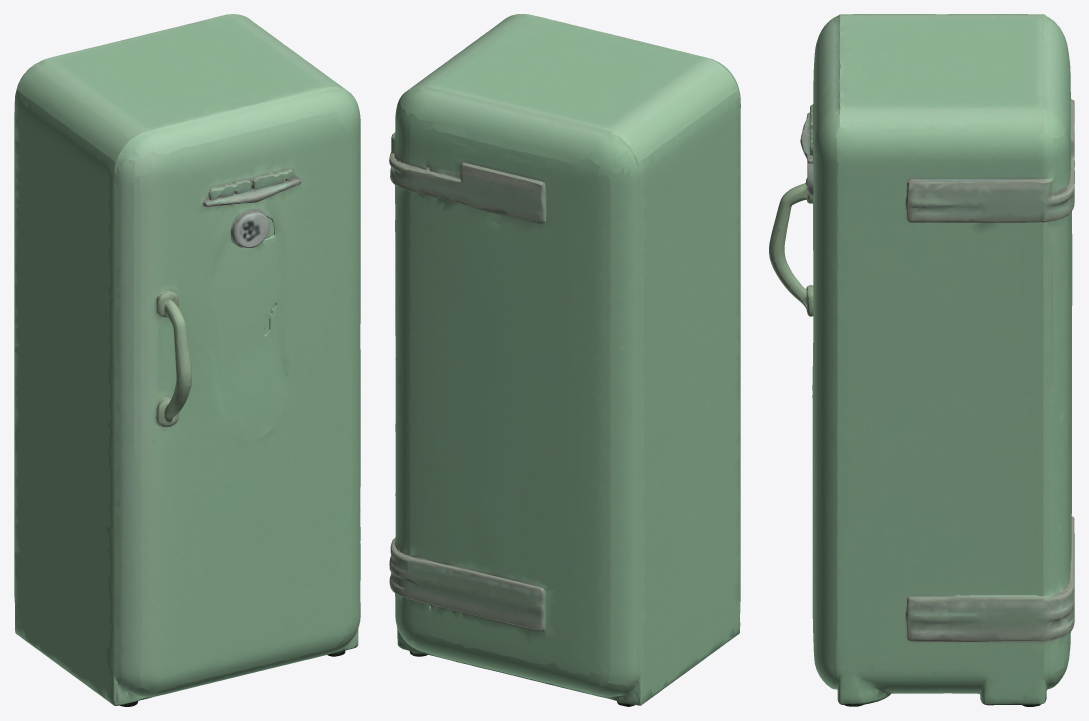
File: L_FRIDGE.glb
3 renders of one model, left to right at view 1: azimuth 30°, elevation 25°; view 2: azimuth 150°, elevation 25°; view 3: azimuth 270°, elevation 25°, orthographic. The views are drawn at different scales.
Visible parts, largest first — view 1: world; view 2: world; view 3: world.
Boxes of the visible parts, x1,y1,x2,y2 form: world: (14,14,360,706); world: (389,14,740,706); world: (769,14,1074,706).
Size of the model in its own units: 0.6646 by 1.45 by 0.6828.
1 material, 1 textured.
